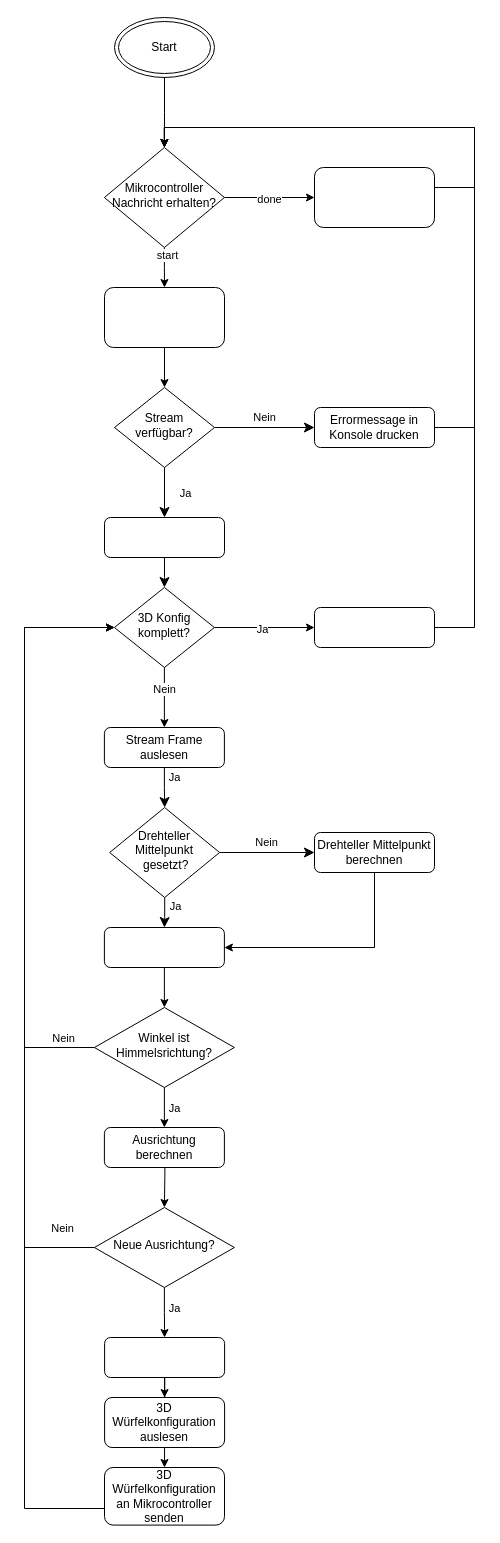
The diagram is 500 pixels wide and 1543 high, and some of its shapes have lost their labels. Here are the shapes that lost their labels. From the top down, the box of each, then its label:
(314, 166, 434, 228): End Signal an Server senden
(104, 286, 224, 348): Start Signal an Server senden
(104, 516, 224, 558): Stream öffnen
(314, 606, 434, 648): Konfig an Server senden
(103, 926, 224, 968): Winkel des Referenzquadranten ausrechnen
(104, 1336, 225, 1378): 2D Würfelpositionen berechnen
